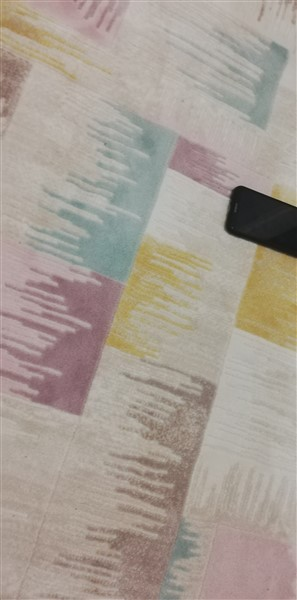telefon: (224, 178, 297, 270)
